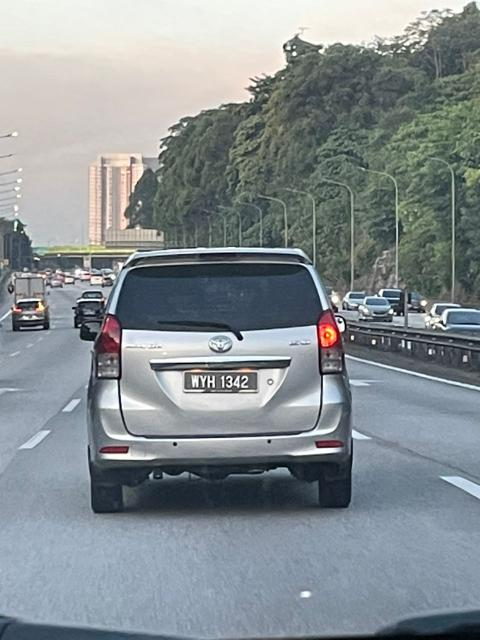License_Plate: (186, 371, 263, 398)
car: (80, 247, 358, 518)
